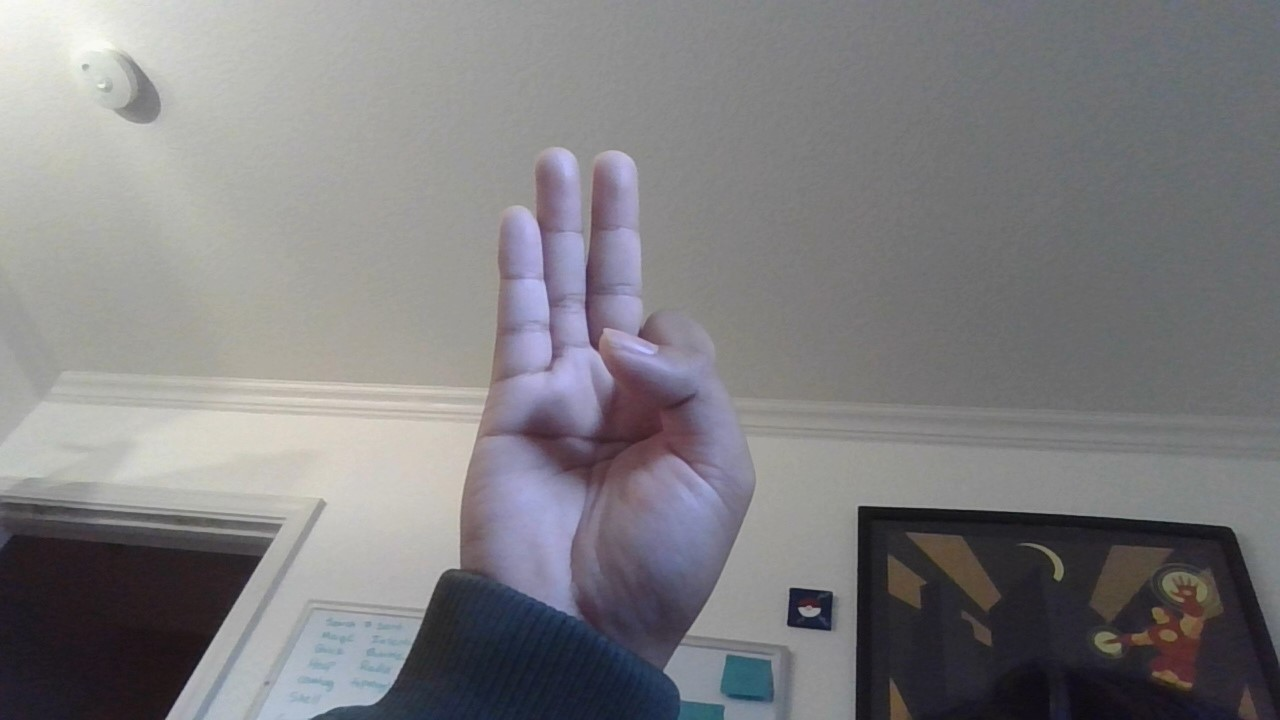f: (361, 129, 830, 720)
